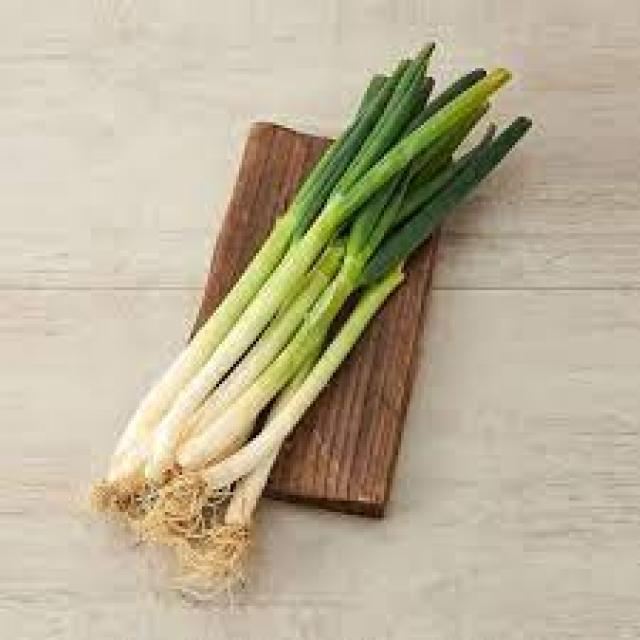spring_onion: (94, 46, 532, 590)
